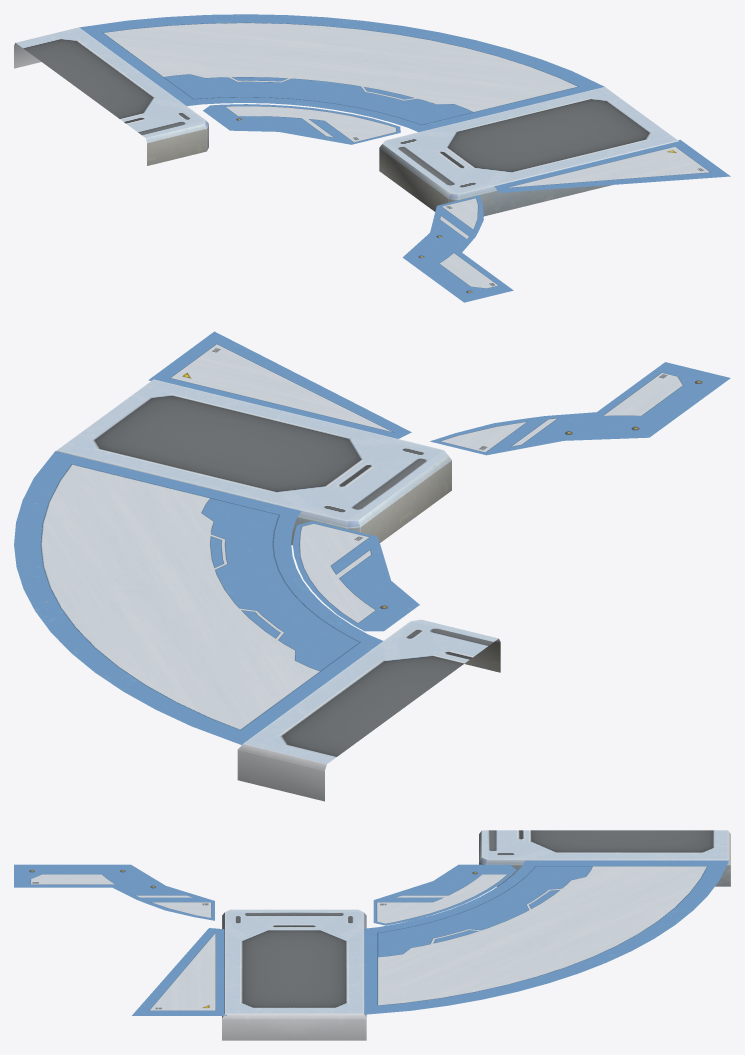
File: mesh_1002_zhucheng_zjz_dibiao003.FBX
The picture shows the model from 3 angles, top to bottom: view 1: azimuth 30°, elevation 25°; view 2: azimuth 150°, elevation 25°; view 3: azimuth 270°, elevation 25°; orthographic projection. The views are drawn at different scales.
Visible parts, largest first — view 1: mesh_1002_zhucheng_zjz_dibiao003; view 2: mesh_1002_zhucheng_zjz_dibiao003; view 3: mesh_1002_zhucheng_zjz_dibiao003.
Part boxes in pixels (x1=…): mesh_1002_zhucheng_zjz_dibiao003: x1=14, y1=14, x2=730, y2=302; mesh_1002_zhucheng_zjz_dibiao003: x1=14, y1=331, x2=730, y2=801; mesh_1002_zhucheng_zjz_dibiao003: x1=14, y1=830, x2=730, y2=1040.
Size of the model in its own units: 3530 by 228 by 5786.
